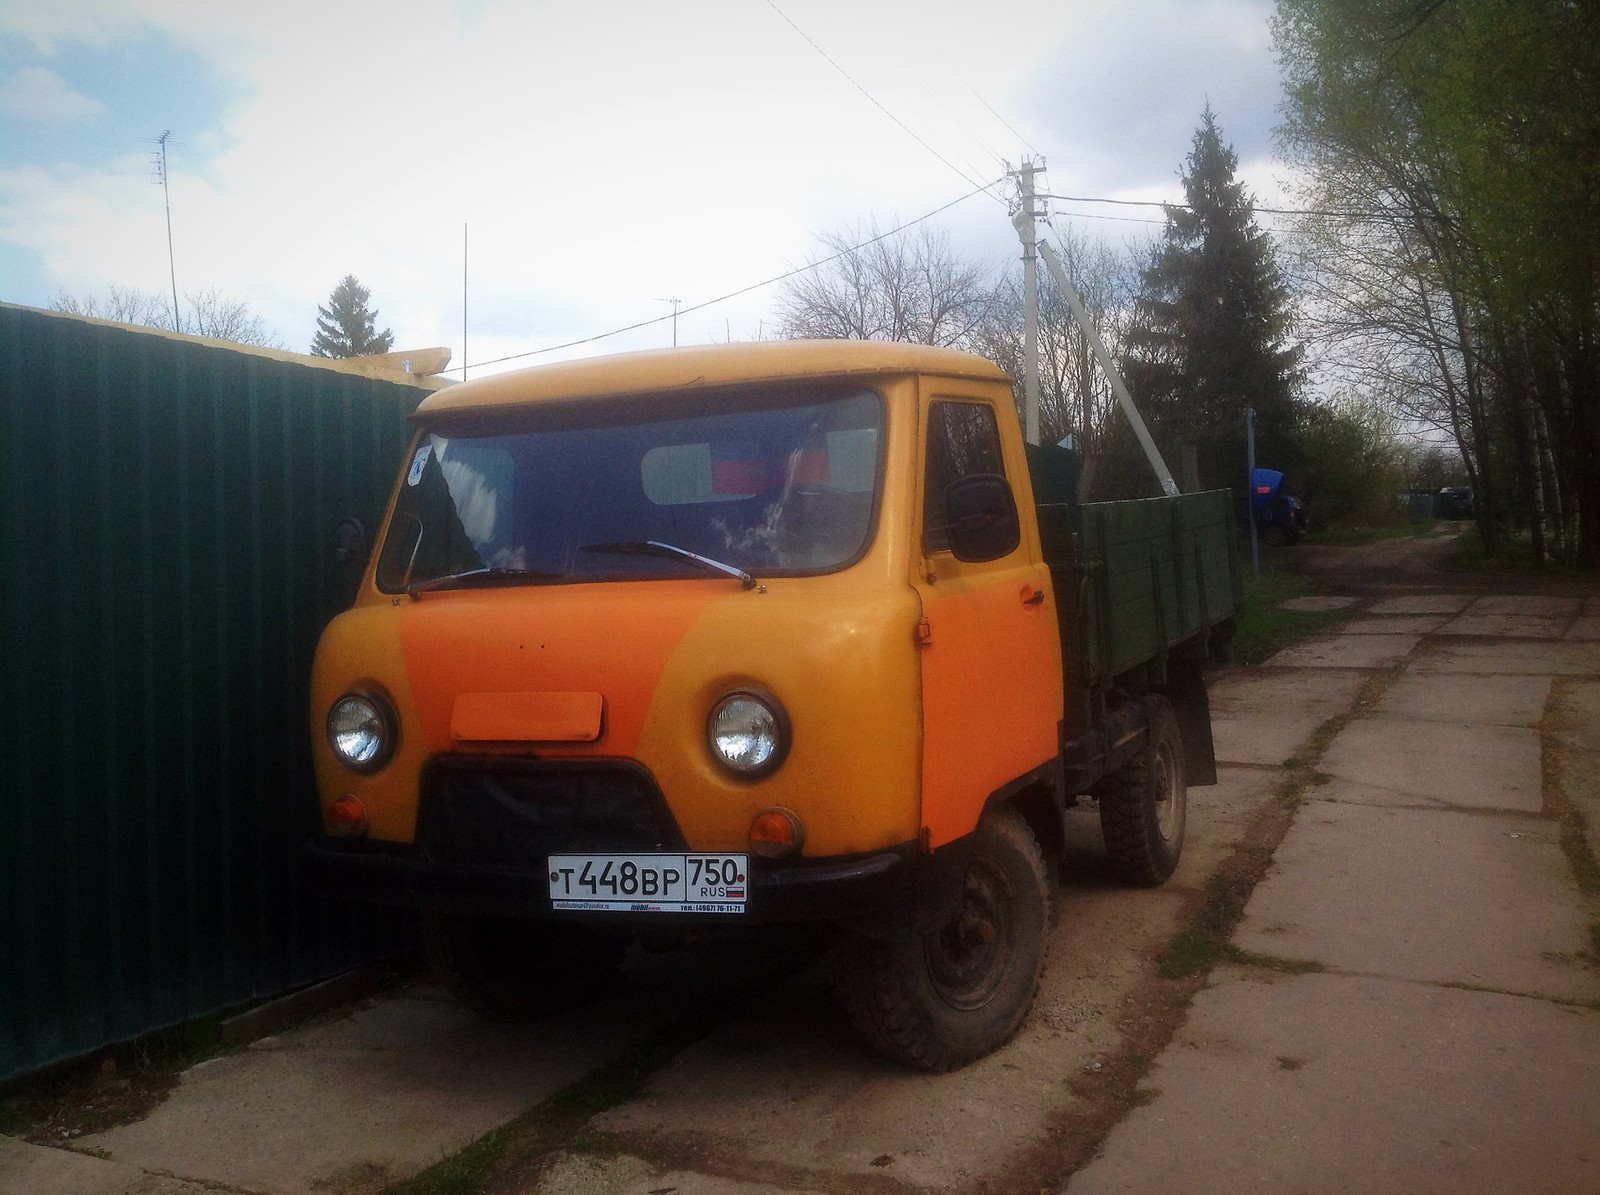car: (309, 574, 903, 928)
plate: (546, 853, 750, 903)
